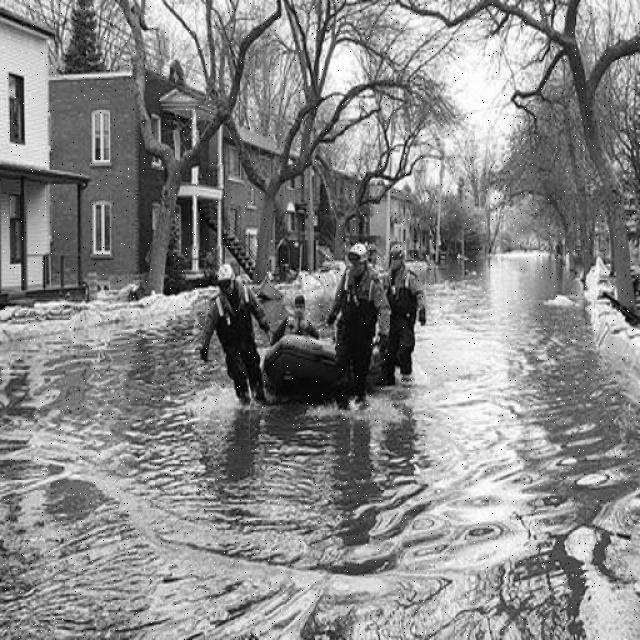rescuer: (199, 251, 282, 431), (325, 240, 379, 420), (377, 238, 432, 390)
